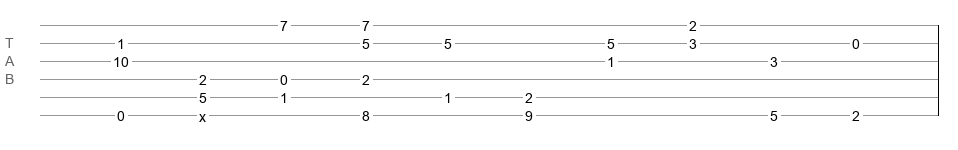0: (117, 108, 125, 118), (280, 72, 288, 82), (852, 36, 860, 46)
1: (117, 36, 125, 46), (280, 90, 288, 100), (444, 90, 452, 100), (607, 54, 615, 64)
10: (113, 54, 129, 64)
2: (199, 72, 207, 82), (362, 72, 370, 82), (525, 90, 533, 100), (689, 18, 697, 28), (852, 108, 860, 118)
3: (689, 36, 697, 46), (770, 54, 778, 64)
5: (199, 90, 207, 100), (362, 36, 370, 46), (444, 36, 452, 46), (607, 36, 615, 46), (770, 108, 778, 118)
7: (280, 18, 288, 28), (362, 18, 370, 28)
8: (362, 108, 370, 118)
9: (525, 108, 533, 118)
x: (199, 109, 206, 117)
